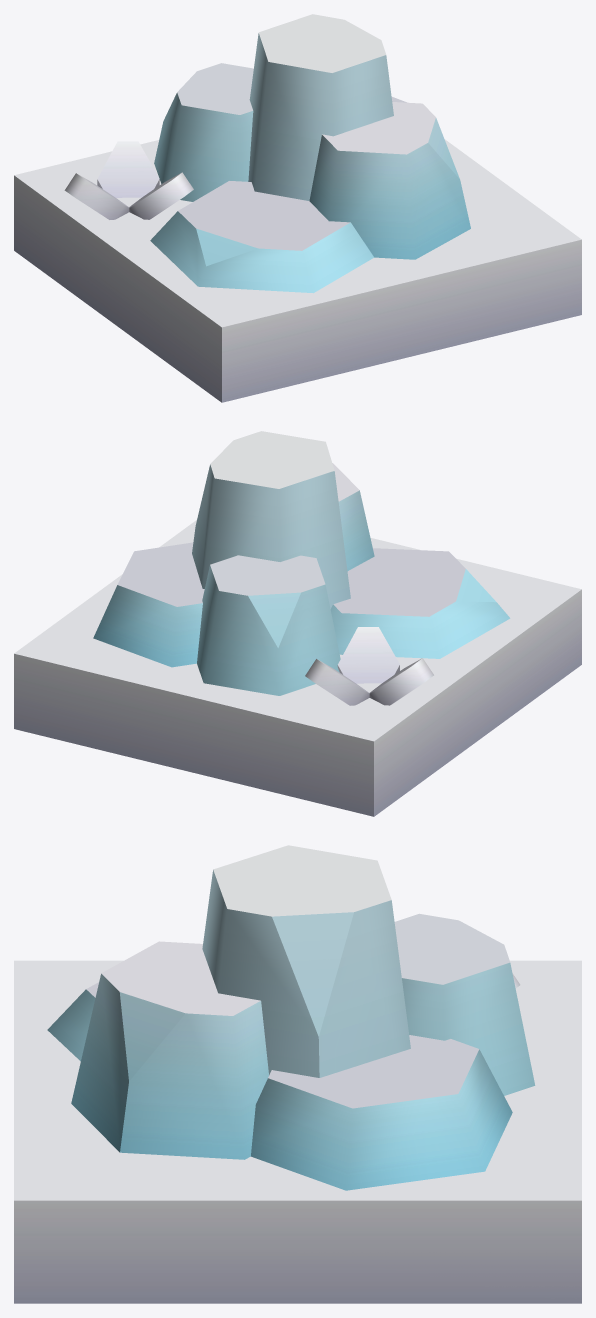
Rendered from kenney-tower-defense-snow-tile-hill.glb.
3 renders of one model, top to bottom at view 1: azimuth 30°, elevation 25°; view 2: azimuth 150°, elevation 25°; view 3: azimuth 270°, elevation 25°, orthographic. The views are drawn at different scales.
Parts seen in each view (by area): view 1: snow-tile-hill; view 2: snow-tile-hill; view 3: snow-tile-hill.
Part boxes in pixels (bbox=[...]): snow-tile-hill: bbox=[14, 14, 581, 402]; snow-tile-hill: bbox=[14, 431, 581, 816]; snow-tile-hill: bbox=[14, 845, 581, 1303].
Size of the model in its own units: 1 by 0.6146 by 1.
Materials: 1 (1 with a texture image).
